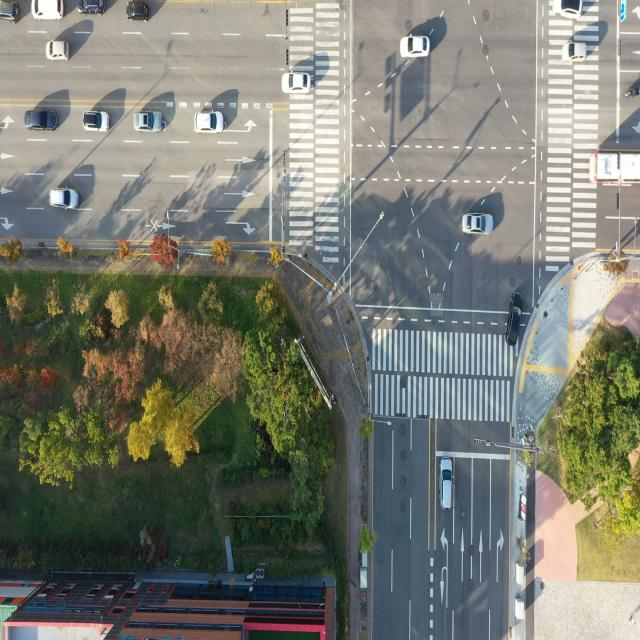car: (506, 289, 524, 348), (460, 207, 494, 238), (130, 107, 166, 134), (24, 108, 58, 133), (50, 185, 80, 212), (557, 42, 588, 68), (441, 455, 455, 512), (553, 0, 585, 23), (193, 112, 226, 134), (34, 0, 66, 22), (282, 74, 312, 96), (126, 0, 151, 26), (47, 36, 71, 63), (402, 36, 431, 58), (85, 109, 108, 132), (0, 0, 21, 25), (77, 0, 104, 16)
large_bus: (590, 148, 640, 189)
